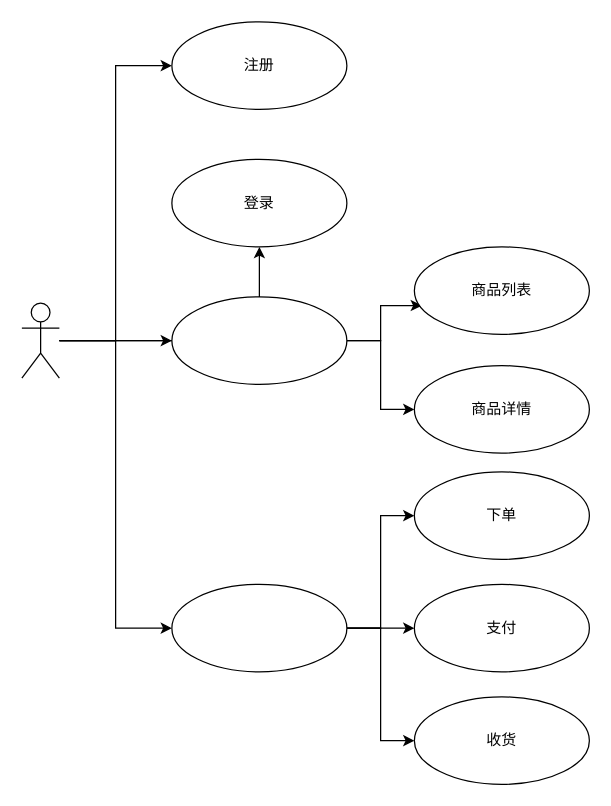
The diagram is 611 pixels wide and 806 high, and some of its shapes have lost their labels. The box of each missing label's shape, as (x1, y1, x2, y2) in pixels:
商品浏览: (171, 296, 347, 384)
用户: (21, 302, 59, 378)
订单: (171, 583, 347, 672)
